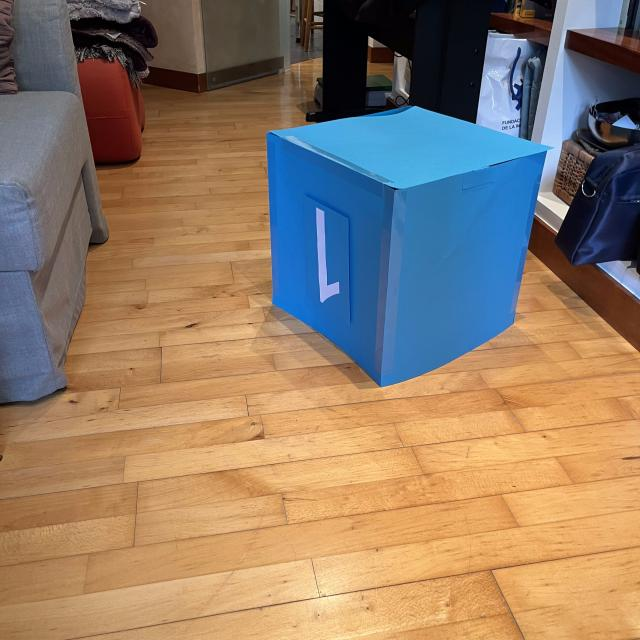box: (260, 101, 554, 389)
